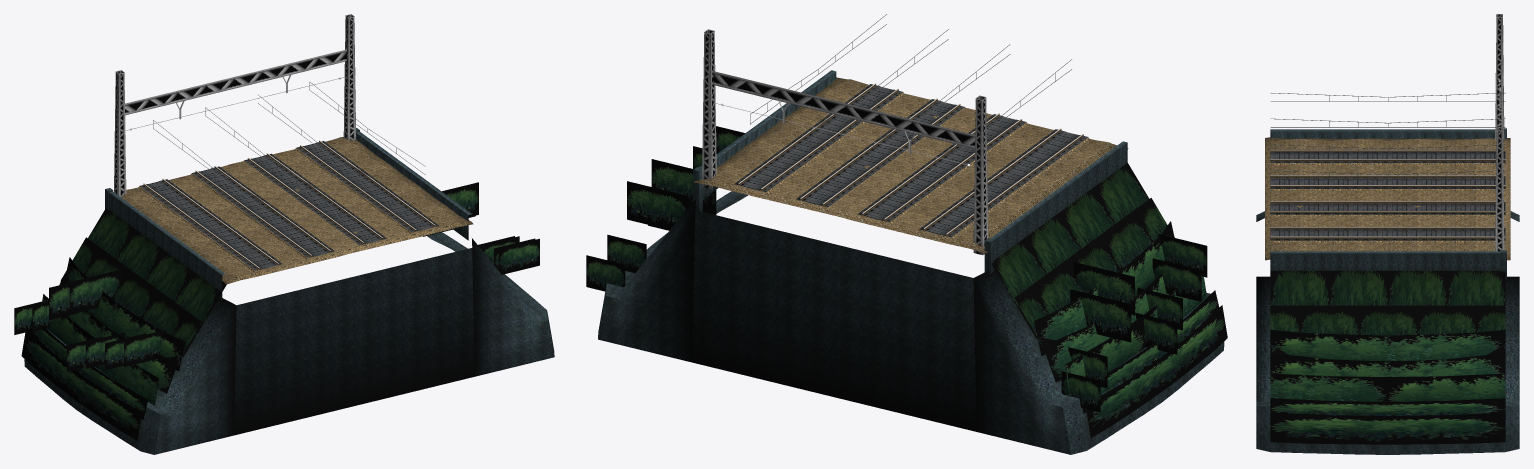
The model's file is K_BIWAKO_01.glb.
3 renders of one model, left to right at view 1: azimuth 30°, elevation 25°; view 2: azimuth 150°, elevation 25°; view 3: azimuth 270°, elevation 25°, orthographic. The views are drawn at different scales.
Parts seen in each view (by area): view 1: obj2, obj1, bone2_b, bone6_b, bone4_b, bone0_b; view 2: obj2, obj1, bone2, bone0, bone6, bone4, last; view 3: obj2, obj1.
Part boxes in pixels (<box>): obj2: <box>21,82,554,454</box>; obj1: <box>114,14,356,196</box>; bone2_b: <box>49,182,478,320</box>; bone6_b: <box>105,238,539,370</box>; bone4_b: <box>66,236,519,371</box>; bone0_b: <box>14,229,452,334</box>; obj2: <box>598,14,1227,454</box>; obj1: <box>702,29,988,254</box>; bone2: <box>627,159,1134,342</box>; bone0: <box>586,234,1107,412</box>; bone6: <box>693,126,1207,301</box>; bone4: <box>648,190,1182,354</box>; last: <box>693,167,994,274</box>; obj2: <box>1256,92,1519,454</box>; obj1: <box>1495,14,1504,251</box>.
Size of the model in its own units: 112 by 65.23 by 56.
17 materials, 17 textured.
